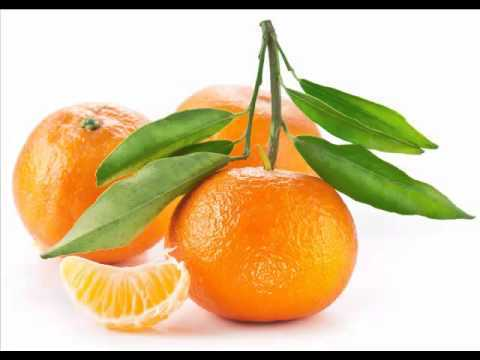orange: (165, 163, 367, 336), (1, 100, 189, 266), (167, 88, 329, 237)
